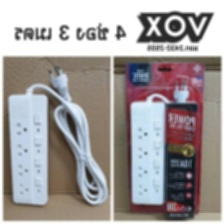book: (121, 59, 207, 221)
three_eye_plug: (6, 91, 53, 209), (128, 98, 170, 208)
